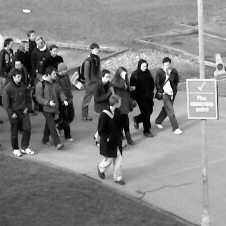person: (1, 70, 34, 156), (96, 94, 126, 183), (34, 67, 65, 149), (154, 57, 182, 135), (129, 59, 155, 138), (81, 43, 107, 120), (113, 66, 135, 145), (57, 62, 76, 141), (95, 69, 113, 147), (43, 44, 65, 70), (32, 37, 49, 69), (8, 60, 30, 83), (1, 38, 14, 70), (16, 40, 34, 63), (27, 27, 38, 60)
